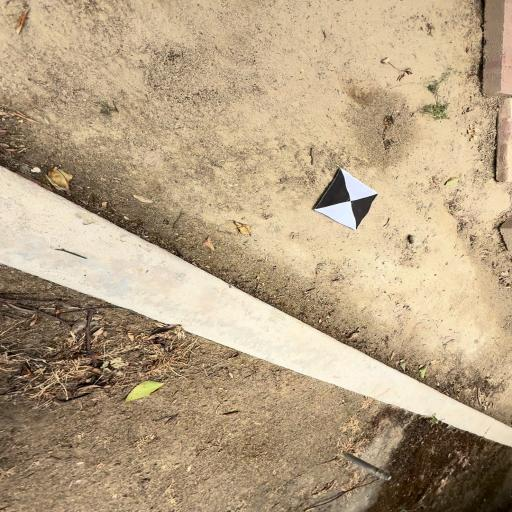target: (314, 169, 378, 230)
